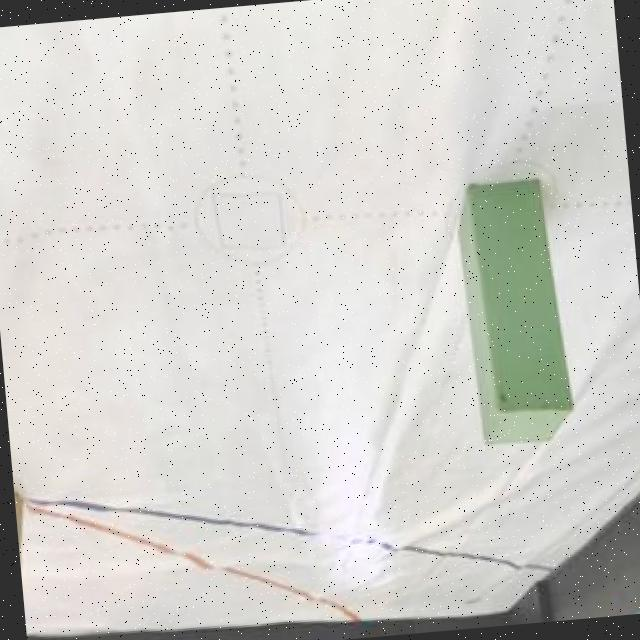greenbox: (457, 180, 578, 456)
